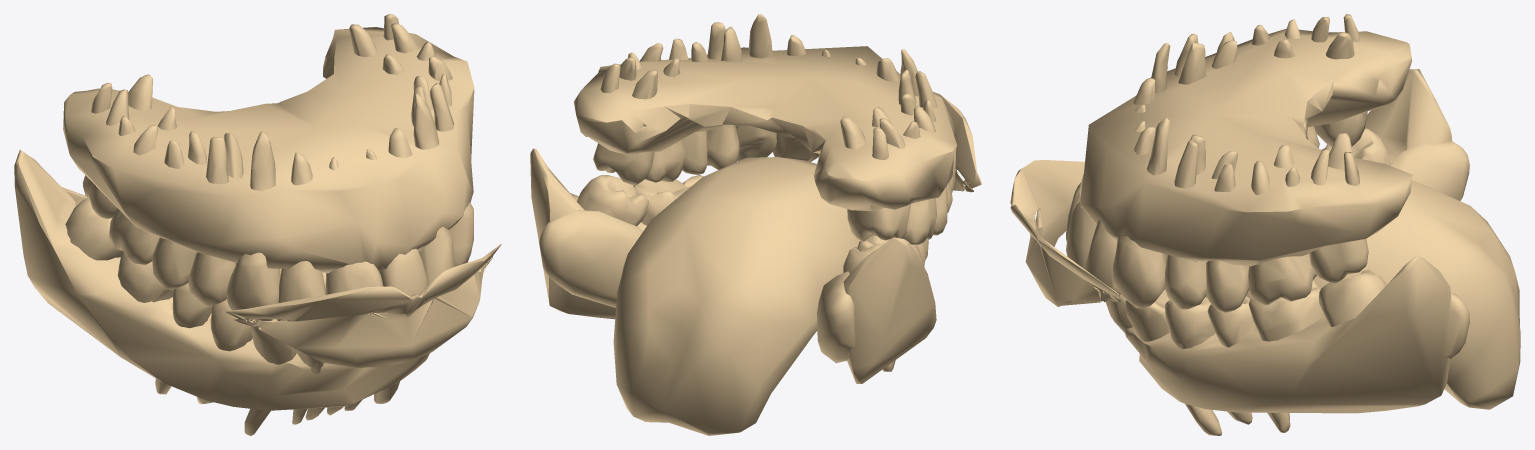
Rendered from digestif-tete.lo.glb.
3 renders of one model, left to right at view 1: azimuth 30°, elevation 25°; view 2: azimuth 150°, elevation 25°; view 3: azimuth 270°, elevation 25°, orthographic. The views are drawn at different scales.
Parts seen in each view (by area): view 1: FJ1252, FJ1253, FJ2814, FJ1281, FJ1277, FJ1276, FJ1278, FJ1275, FJ1280, FJ1270, FJ1267, FJ1266 (+11 smaller); view 2: FJ2761, FJ1252, FJ1253, FJ2766, FJ1275, FJ1263, FJ2768, FJ1262, FJ1256, FJ1276, FJ1267, FJ1261 (+8 smaller); view 3: FJ1252, FJ1253, FJ2761, FJ2814, FJ1267, FJ1261, FJ1263, FJ1262, FJ2768, FJ1264, FJ1254, FJ1256 (+13 smaller).
Part boxes in pixels (<box>): FJ1252: <box>63,27,474,273</box>; FJ1253: <box>14,150,429,410</box>; FJ2814: <box>226,244,501,367</box>; FJ1281: <box>226,131,280,326</box>; FJ1277: <box>188,133,243,305</box>; FJ1276: <box>109,107,176,265</box>; FJ1278: <box>152,131,207,289</box>; FJ1275: <box>83,74,152,219</box>; FJ1280: <box>277,152,325,320</box>; FJ1270: <box>65,198,122,260</box>; FJ1267: <box>413,93,473,266</box>; FJ1266: <box>388,128,455,284</box>; FJ2761: <box>613,157,860,435</box>; FJ1252: <box>574,46,956,211</box>; FJ1253: <box>530,148,936,383</box>; FJ2766: <box>539,210,642,307</box>; FJ1275: <box>840,116,910,241</box>; FJ1263: <box>593,57,657,185</box>; FJ2768: <box>817,271,855,363</box>; FJ1262: <box>707,22,742,169</box>; FJ1256: <box>577,175,648,225</box>; FJ1276: <box>872,106,936,245</box>; FJ1267: <box>735,14,776,161</box>; FJ1261: <box>628,43,685,182</box>; FJ1252: <box>1079,28,1412,266</box>; FJ1253: <box>1125,69,1452,413</box>; FJ2761: <box>1165,180,1520,409</box>; FJ2814: <box>1010,160,1120,306</box>; FJ1267: <box>1112,118,1169,308</box>; FJ1261: <box>1248,145,1317,305</box>; FJ1263: <box>1309,132,1368,283</box>; FJ1262: <box>1165,134,1206,309</box>; FJ2768: <box>1389,141,1469,201</box>; FJ1264: <box>1205,151,1249,312</box>; FJ1254: <box>1249,281,1324,341</box>; FJ1256: <box>1319,269,1386,326</box>.
Size of the model in its own units: 0.0751 by 0.0574 by 0.0818.
